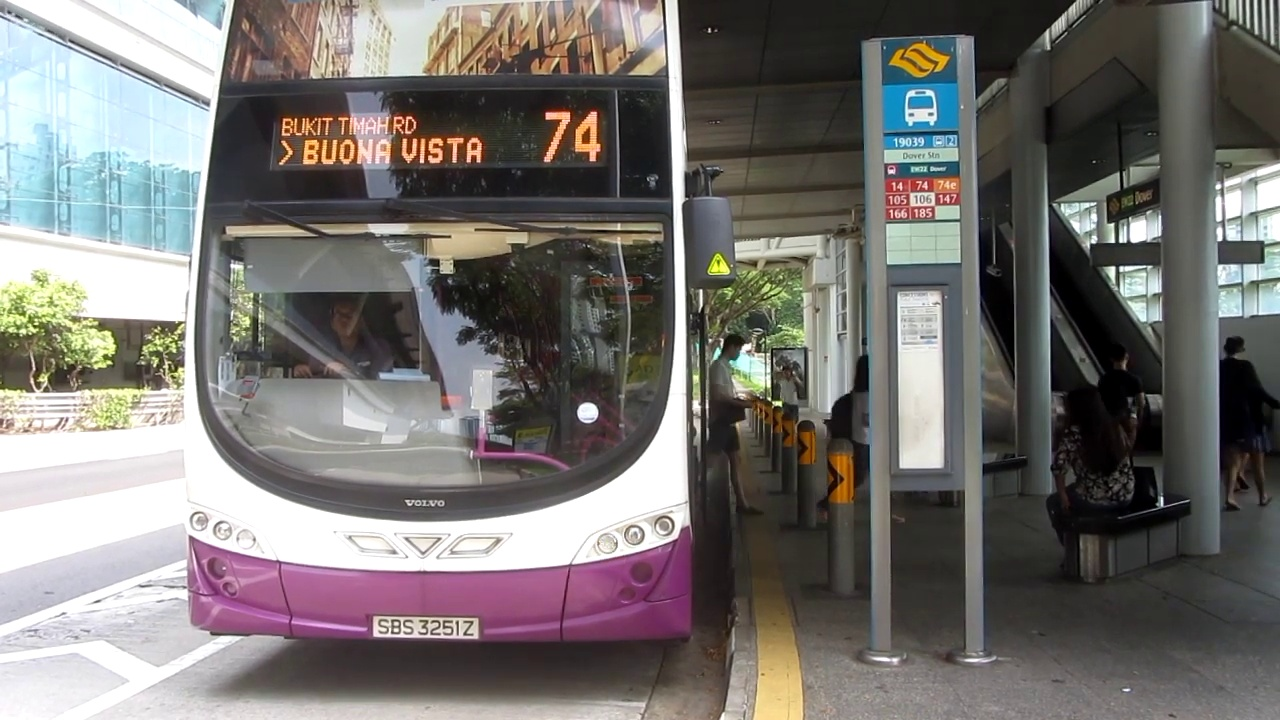bus panel: (266, 105, 608, 174)
